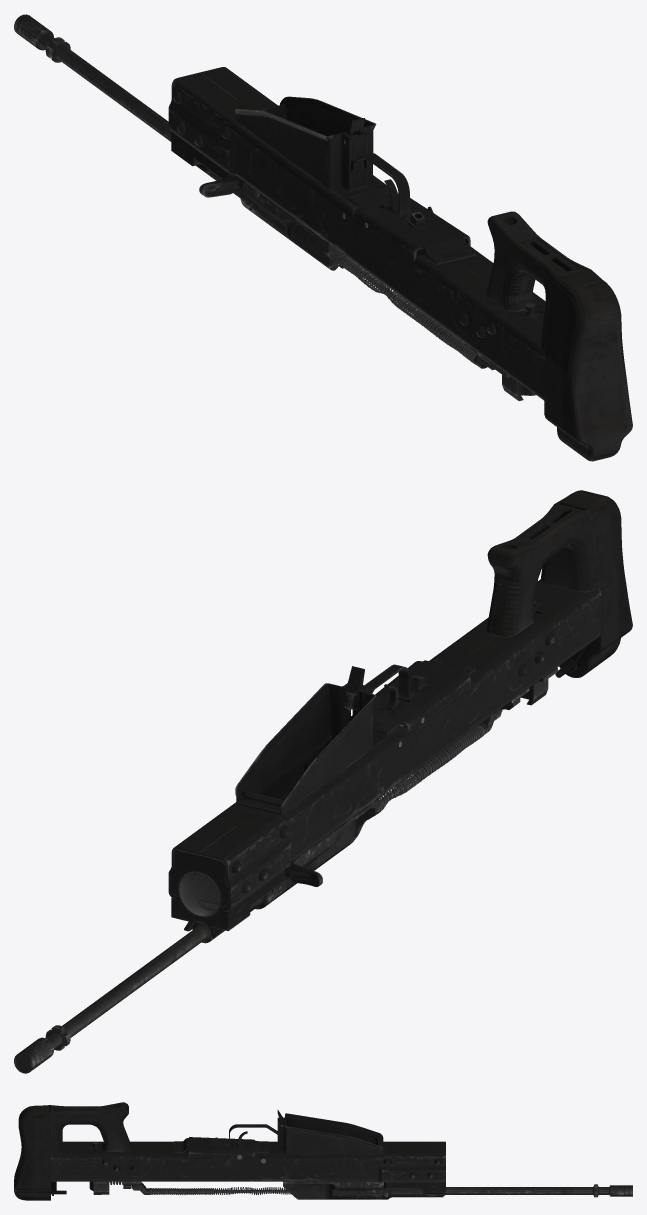
The picture shows the model from 3 angles, top to bottom: view 1: azimuth 30°, elevation 25°; view 2: azimuth 150°, elevation 25°; view 3: azimuth 270°, elevation 25°; orthographic projection. The views are drawn at different scales.
Parts seen in each view (by area): view 1: TW_67d0576f29f580ebc10efd08_PZ_Import; view 2: TW_67d0576f29f580ebc10efd08_PZ_Import; view 3: TW_67d0576f29f580ebc10efd08_PZ_Import.
Boxes of the visible parts, x1,y1,x2,y2 form: TW_67d0576f29f580ebc10efd08_PZ_Import: [14, 14, 632, 461]; TW_67d0576f29f580ebc10efd08_PZ_Import: [14, 490, 632, 1073]; TW_67d0576f29f580ebc10efd08_PZ_Import: [14, 1102, 632, 1200].
Size of the model in its own units: 0.0558 by 0.5848 by 0.0985.
1 material, 1 textured.
